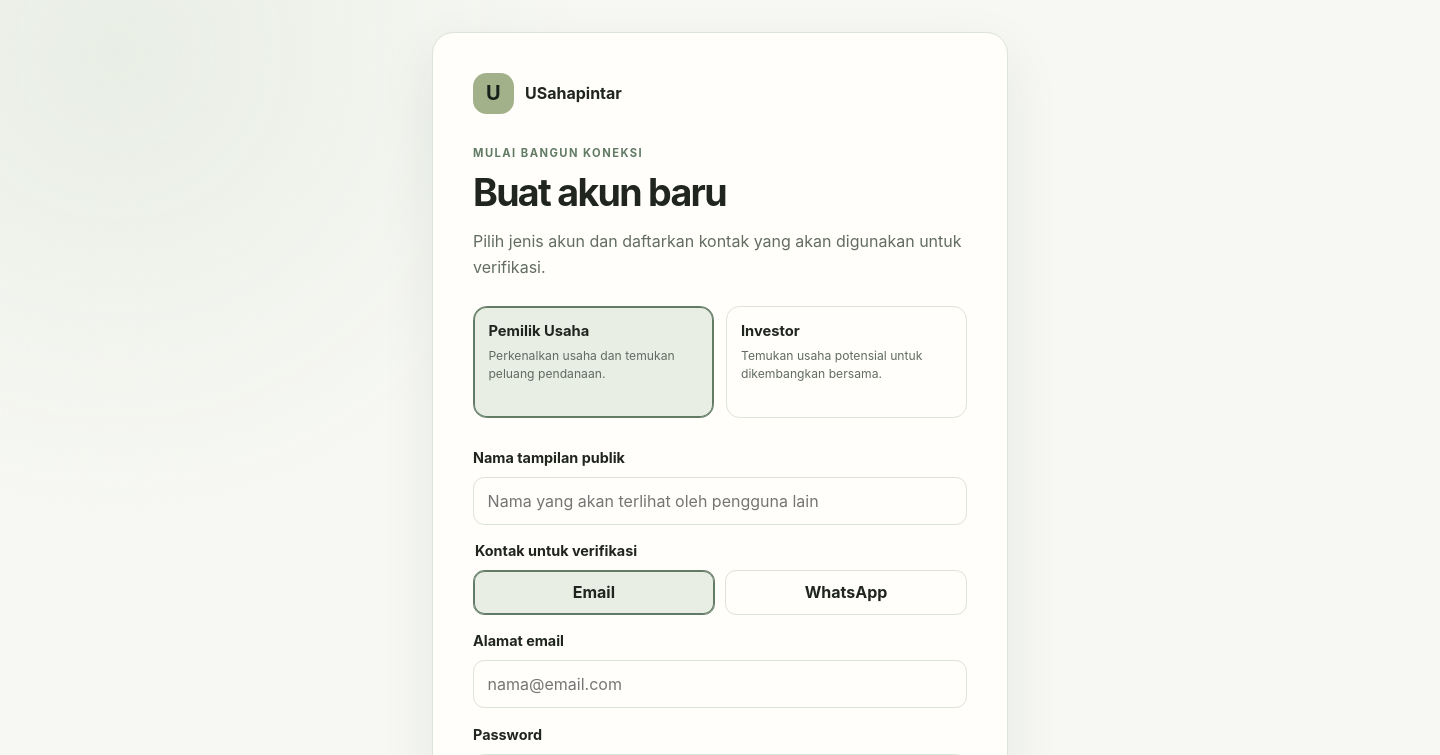
Test: RegistrationPage › switches the contact field between email and WhatsApp
Click the button "WhatsApp".
click(846, 592)  # box [725, 570, 967, 615]
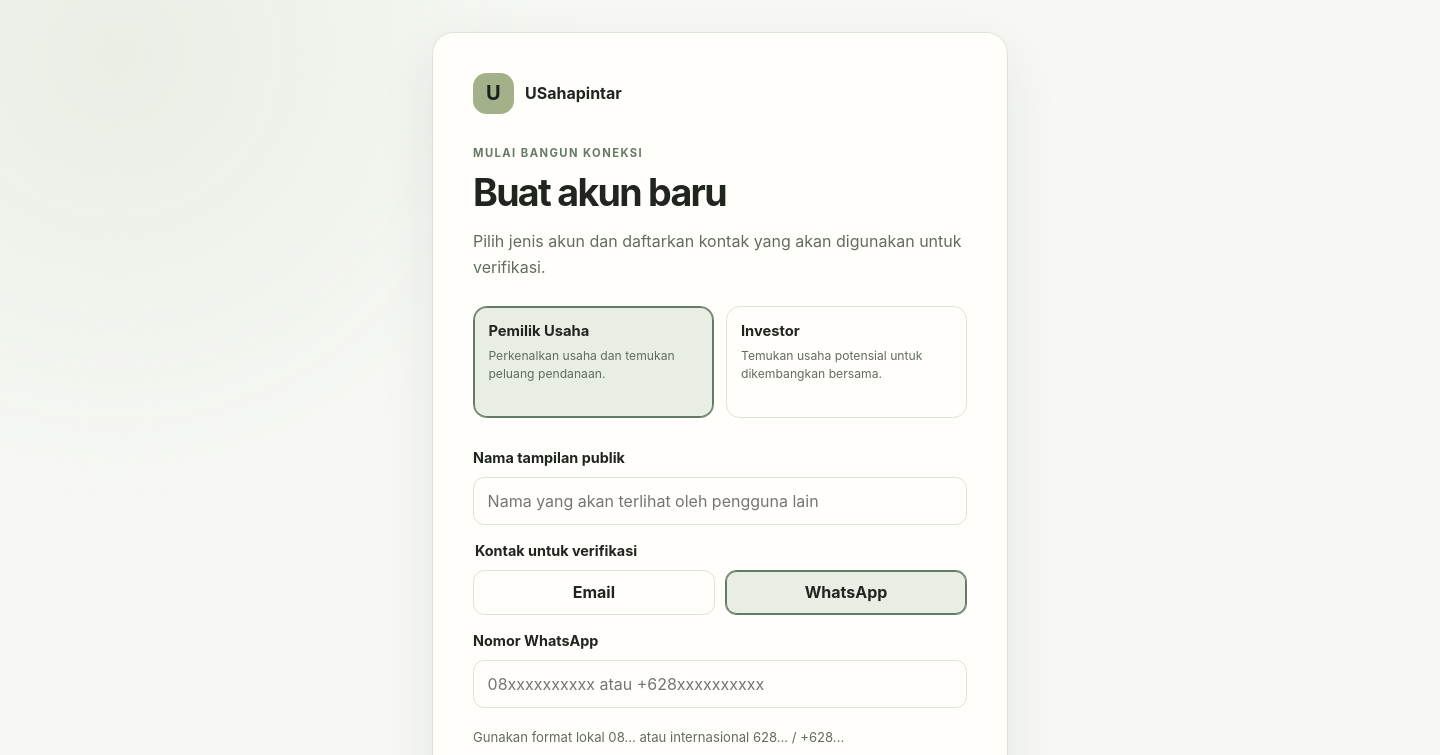
Expected: the field labelled "Nomor WhatsApp" has attribute type="tel", [473, 660, 967, 708]
Expected: the field labelled "Nomor WhatsApp" has attribute placeholder="08xxxxxxxxxx atau +628xxxxxxxxxx", [473, 660, 967, 708]
